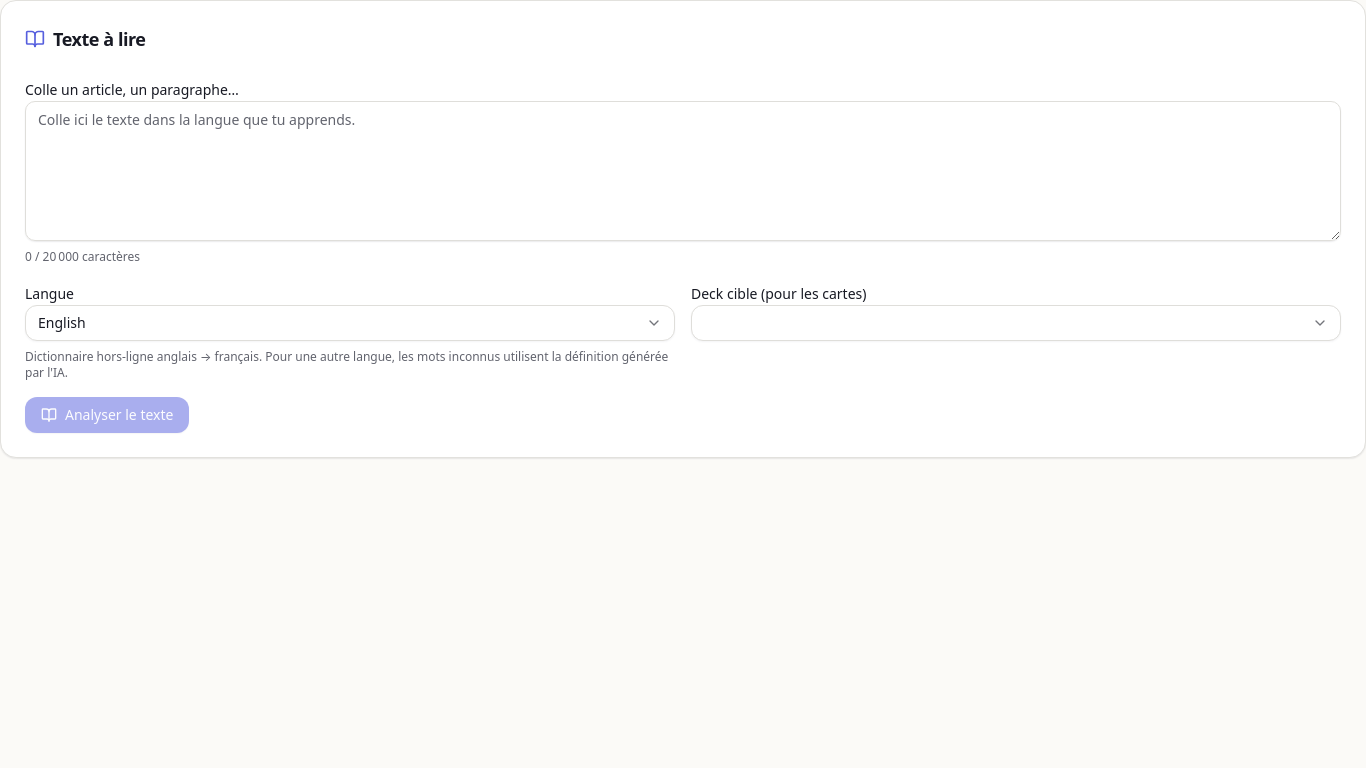
Scenario: ReadingImport › tokenises the analysed text into word buttons with coverage stats
In the text box labelled "Colle un article, un paragraphe…": (683, 171) x1=25 y1=101 x2=1341 y2=241, type "the cat sat"
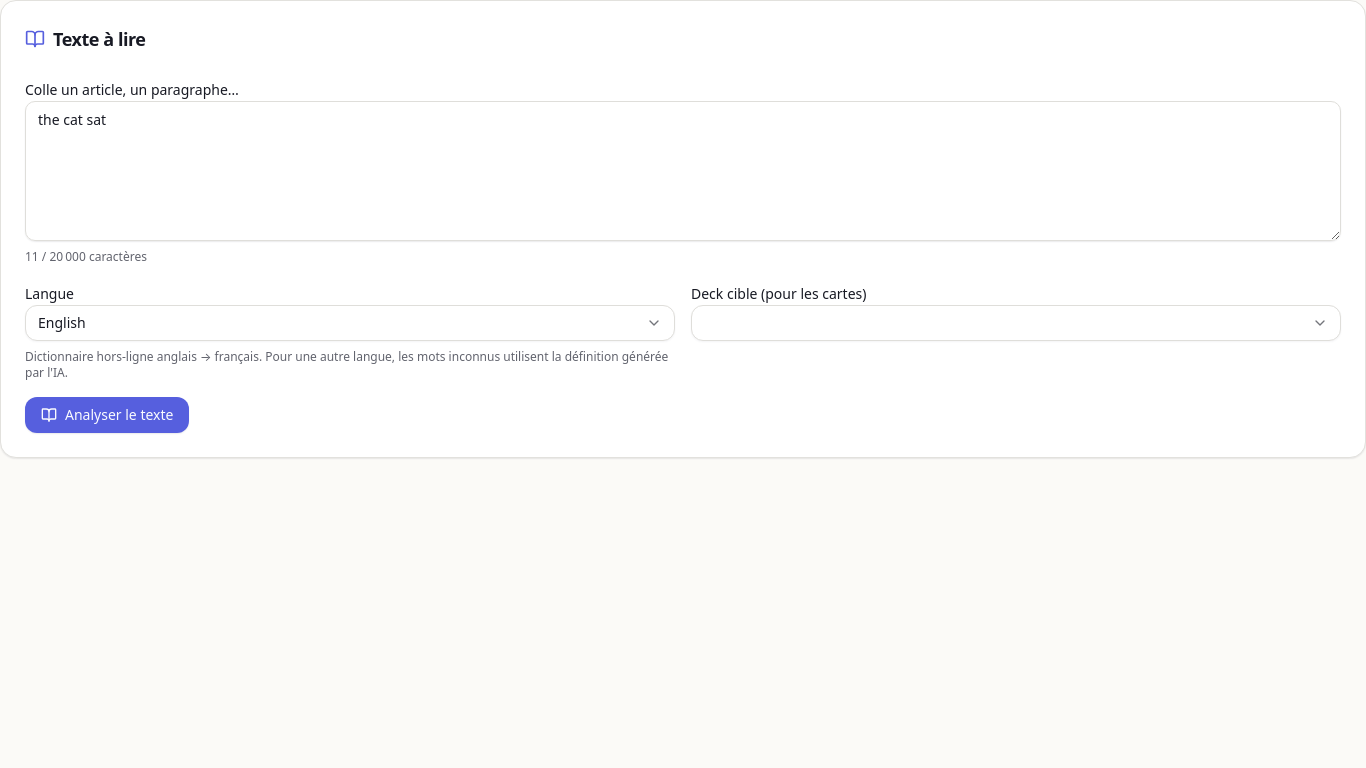
Click the button "Analyser le texte": (107, 415) x1=25 y1=397 x2=189 y2=433
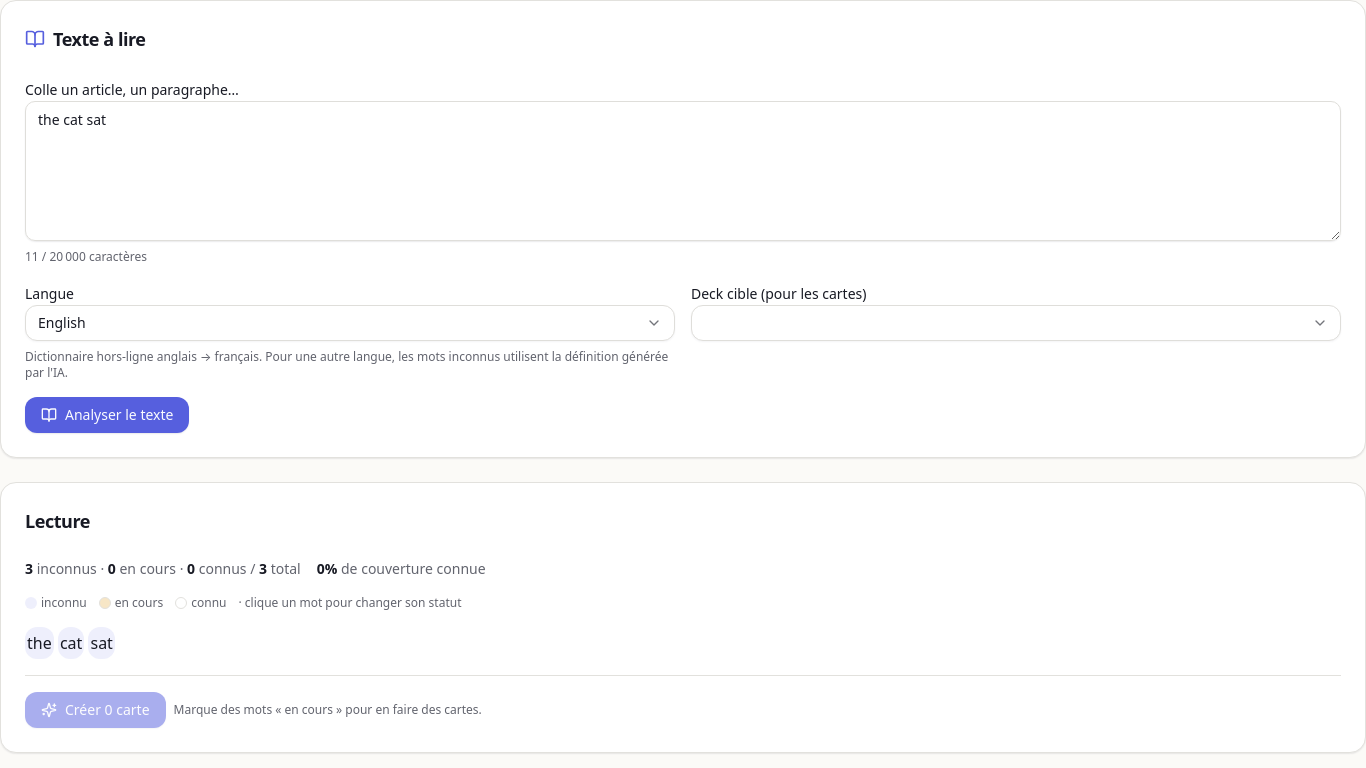
Expected: the number of elements with test id "reading-word" is 3, x1=27 y1=632 x2=52 y2=654; x1=60 y1=632 x2=82 y2=654; x1=90 y1=632 x2=113 y2=654
Expected: the element with test id "reading-stats" shows "3", x1=25 y1=559 x2=33 y2=578
Expected: the element with test id "reading-stats" shows "0%", x1=25 y1=559 x2=486 y2=578
